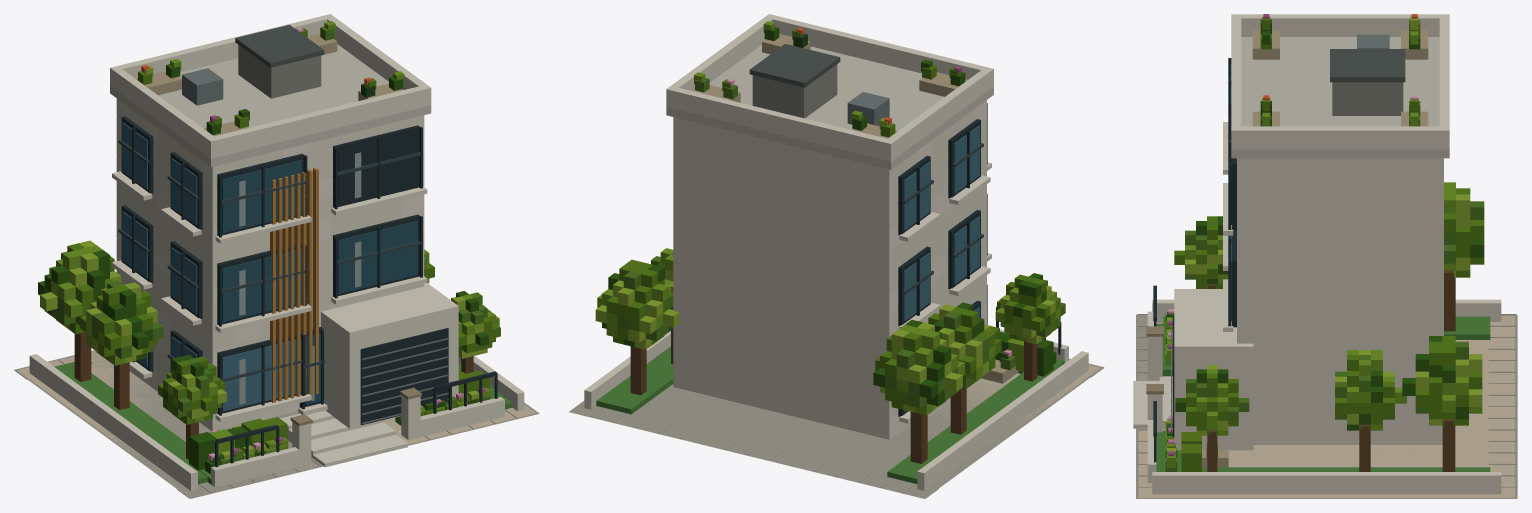
Rendered from SM_Mapa_019.fbx.
The picture shows the model from 3 angles, left to right: view 1: azimuth 30°, elevation 25°; view 2: azimuth 150°, elevation 25°; view 3: azimuth 270°, elevation 25°; orthographic projection. The views are drawn at different scales.
Visible parts, largest first — view 1: SM_Mapa_019; view 2: SM_Mapa_019; view 3: SM_Mapa_019.
Part boxes in pixels (<box>): SM_Mapa_019: <box>14,14,539,498</box>; SM_Mapa_019: <box>569,14,1104,498</box>; SM_Mapa_019: <box>1133,14,1517,498</box>.
Bounding box in the file's own units: 8 × 6.99 × 7.13.
